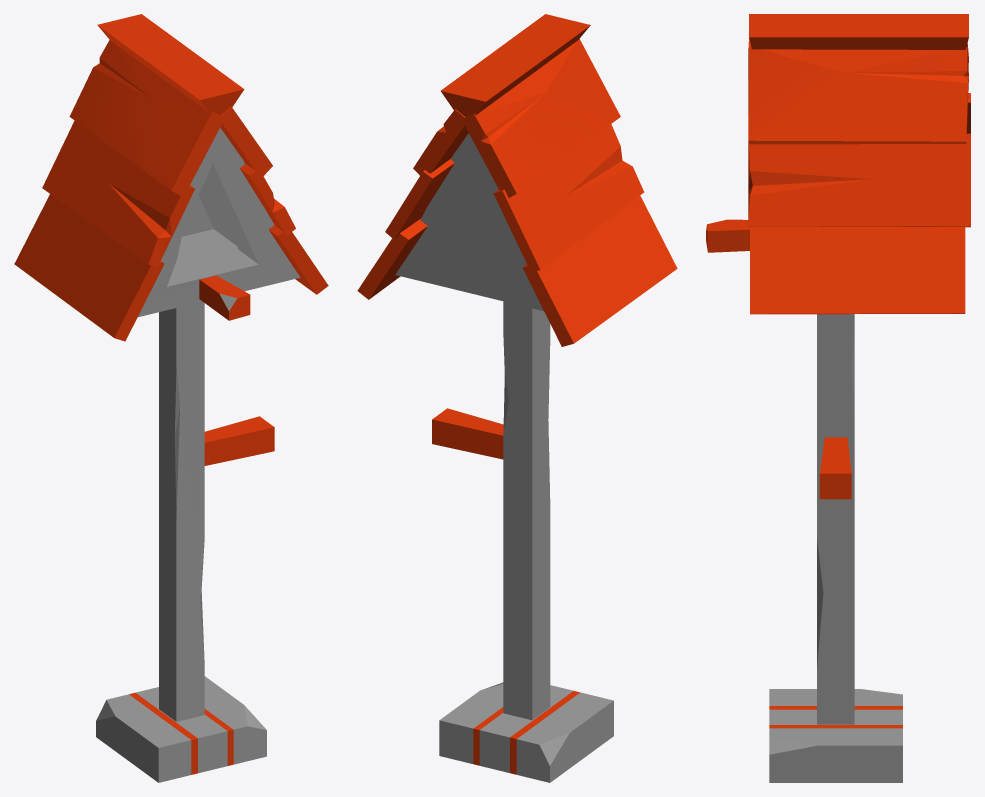
File: Bird_House.fbx
3 renders of one model, left to right at view 1: azimuth 30°, elevation 25°; view 2: azimuth 150°, elevation 25°; view 3: azimuth 270°, elevation 25°, orthographic. The views are drawn at different scales.
Visible parts, largest first — view 1: Bird_House; view 2: Bird_House; view 3: Bird_House.
Part boxes in pixels (box(x1,y1,x2,y2)): Bird_House: box(14, 14, 328, 782); Bird_House: box(357, 14, 677, 782); Bird_House: box(706, 14, 970, 782).
Bounding box in the file's own units: 18.14 × 55.1 × 18.14.
